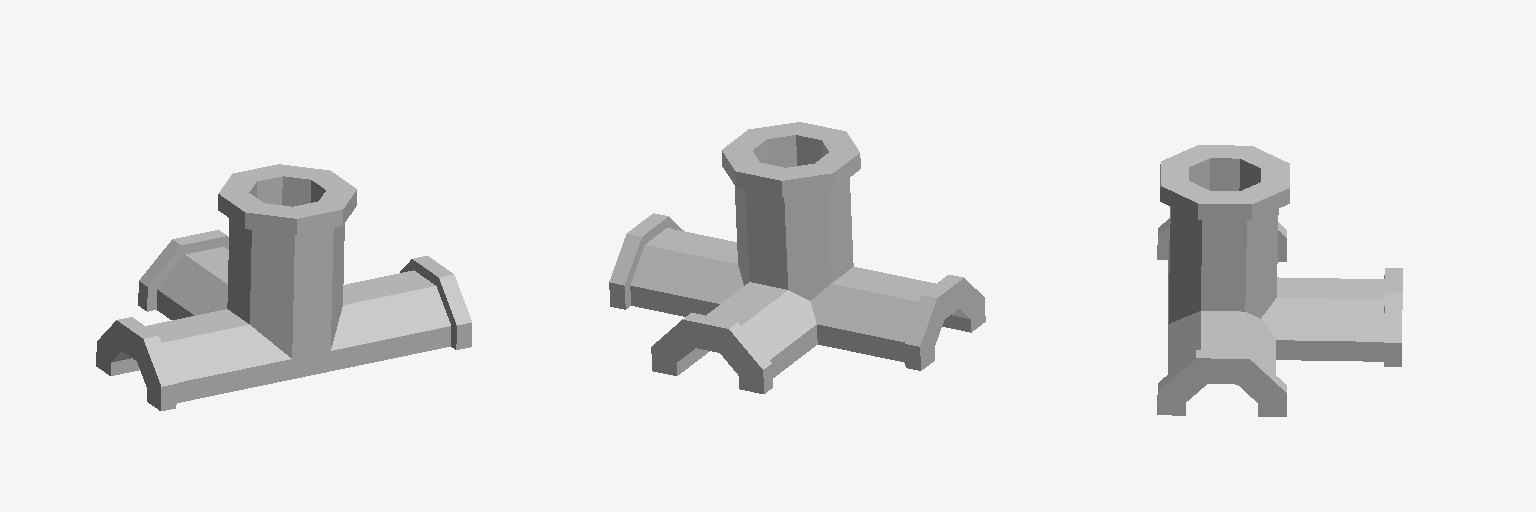
The model's file is Drain Pipe - T-shape.obj.
3 views of the same model, side by side, from view 1: azimuth 30°, elevation 25°; view 2: azimuth 150°, elevation 25°; view 3: azimuth 270°, elevation 25° (orthographic).
Parts seen in each view (by area): view 1: Drain_Pipe_-_T-shape; view 2: Drain_Pipe_-_T-shape; view 3: Drain_Pipe_-_T-shape.
Part boxes in pixels (bbox=[...]): Drain_Pipe_-_T-shape: bbox=[96, 164, 471, 410]; Drain_Pipe_-_T-shape: bbox=[609, 122, 985, 393]; Drain_Pipe_-_T-shape: bbox=[1157, 145, 1402, 416].
Size of the model in its own units: 1.01 by 0.528 by 0.6833.